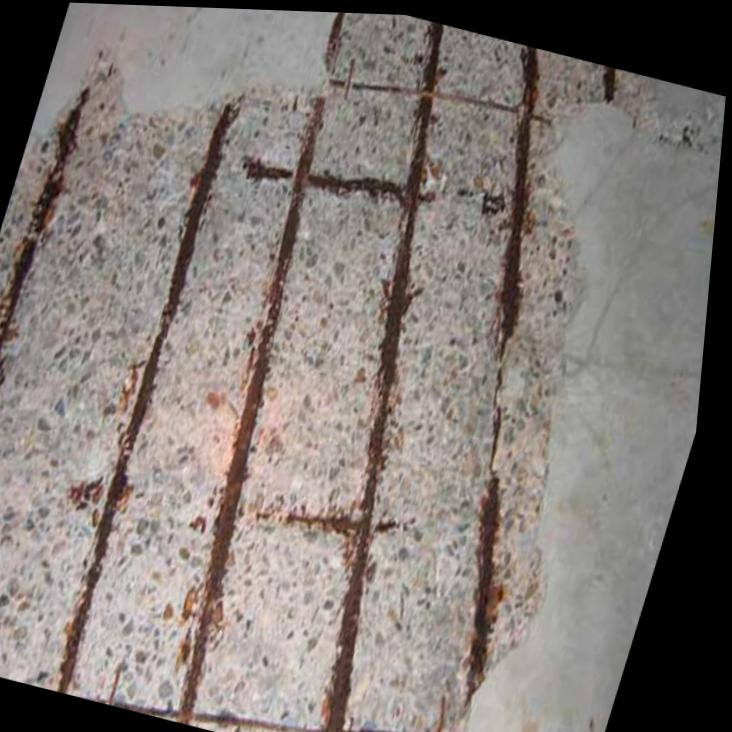damage: (0, 10, 691, 732)
